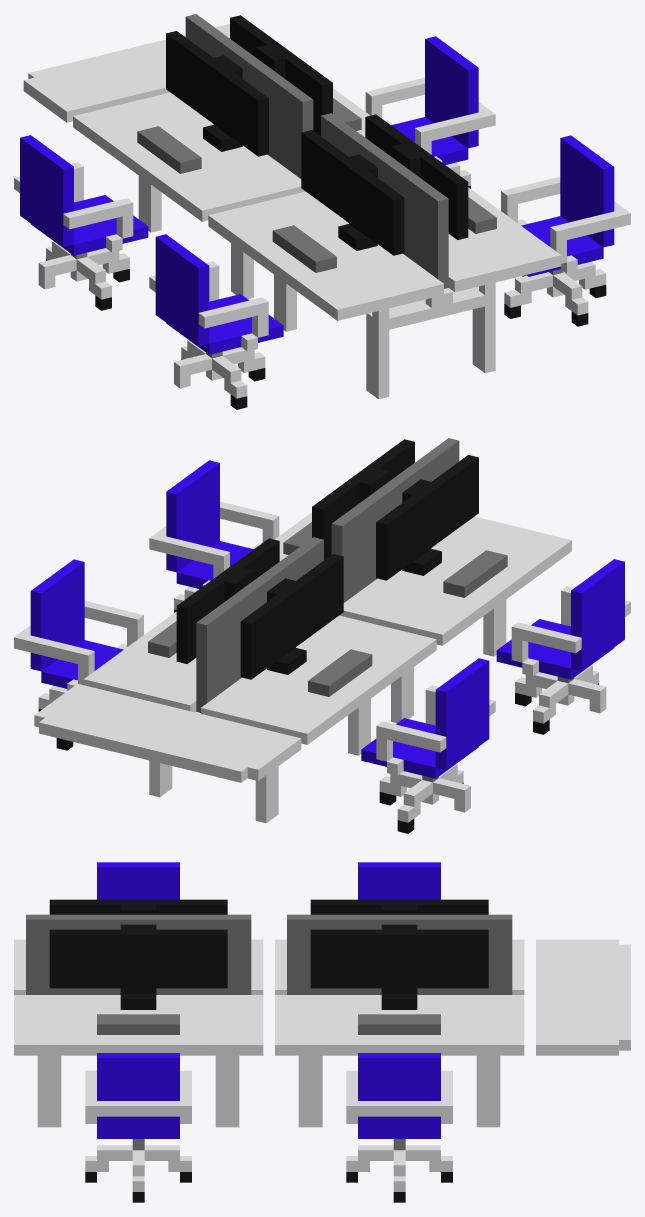
File: 4er-tisch-verl-94-4er arbeitsplatz.obj
3 renders of one model, top to bottom at view 1: azimuth 30°, elevation 25°; view 2: azimuth 150°, elevation 25°; view 3: azimuth 270°, elevation 25°, orthographic. The views are drawn at different scales.
Visible parts, largest first — view 1: 4er arbeitsplatz; view 2: 4er arbeitsplatz; view 3: 4er arbeitsplatz.
Part boxes in pixels (x1,y1,x2,y2): 4er arbeitsplatz: [14, 14, 630, 409]; 4er arbeitsplatz: [14, 438, 630, 833]; 4er arbeitsplatz: [14, 862, 630, 1202].
Size of the model in its own units: 4 by 1.7 by 5.2.
1 material, 1 textured.
